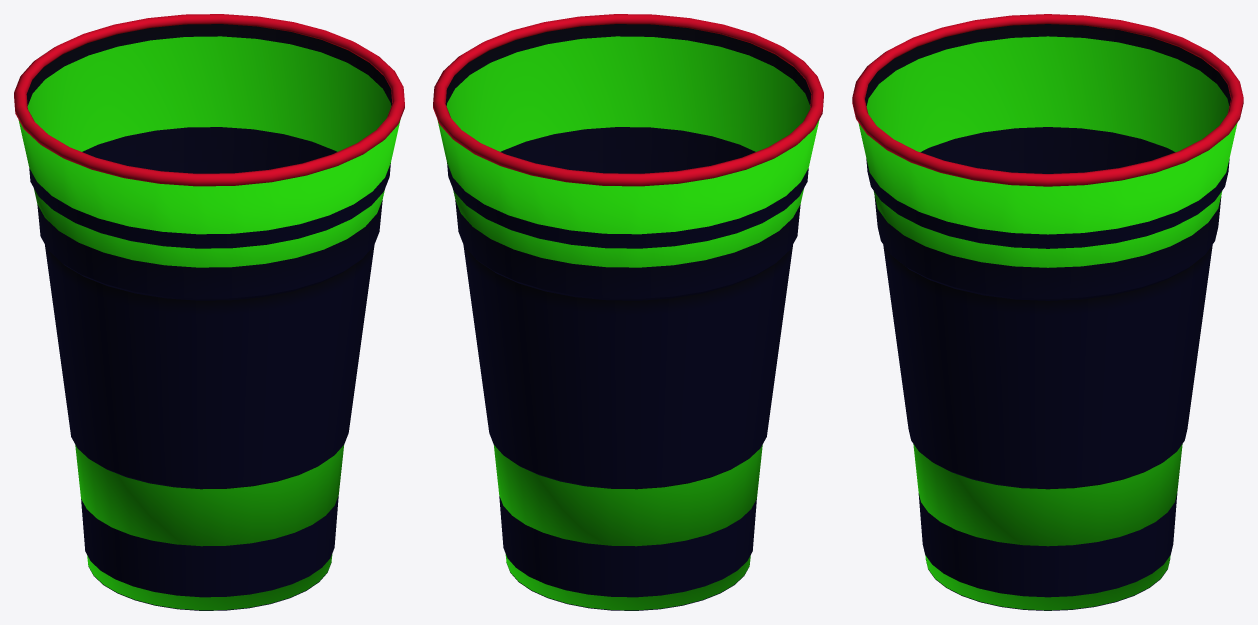
The model's file is Red Solo Cup.dae.
3 views of the same model, side by side, from view 1: azimuth 30°, elevation 25°; view 2: azimuth 150°, elevation 25°; view 3: azimuth 270°, elevation 25° (orthographic).
Visible parts, largest first — view 1: Cup, Cup_CAL; view 2: Cup, Cup_CAL; view 3: Cup, Cup_CAL.
Part boxes in pixels (x1,y1,x2,y2): Cup: (14, 14, 404, 610); Cup_CAL: (18, 36, 400, 610); Cup: (433, 14, 823, 610); Cup_CAL: (437, 36, 819, 610); Cup: (852, 14, 1243, 610); Cup_CAL: (858, 36, 1237, 610).
Bounding box in the file's own units: 9.86 × 9.86 × 12.92.
